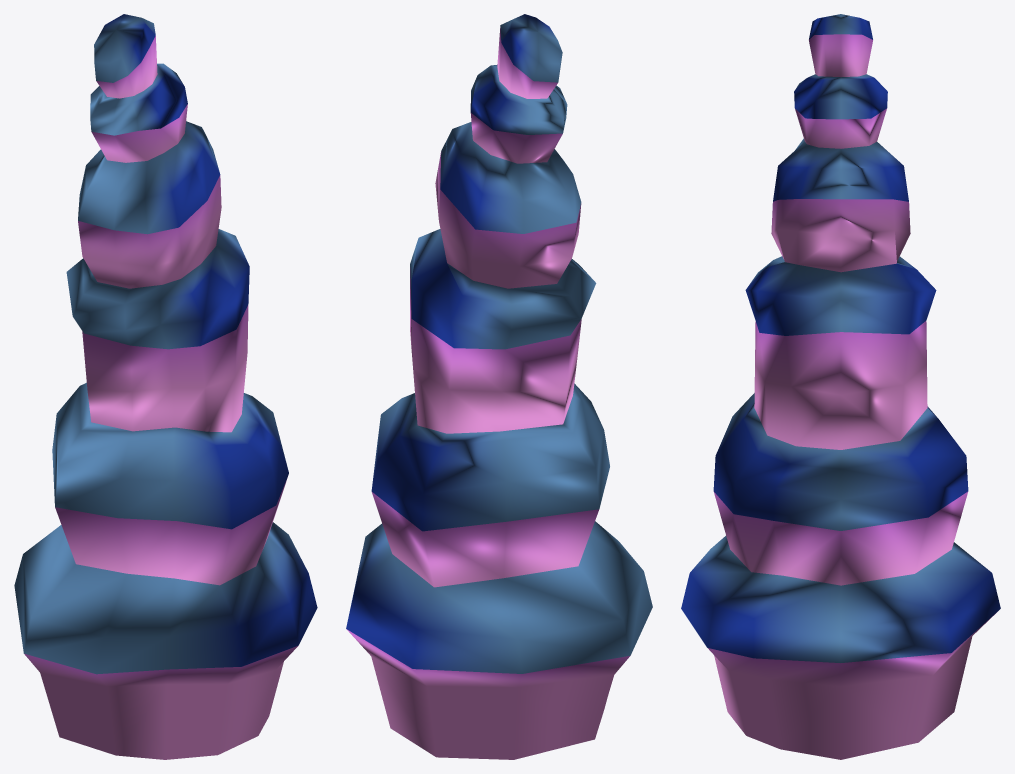
File: RaveCaveTower.glb
3 renders of one model, left to right at view 1: azimuth 30°, elevation 25°; view 2: azimuth 150°, elevation 25°; view 3: azimuth 270°, elevation 25°, orthographic. The views are drawn at different scales.
Parts seen in each view (by area): view 1: RaveCaveTower; view 2: RaveCaveTower; view 3: RaveCaveTower.
Part boxes in pixels (x1=…): RaveCaveTower: x1=14, y1=14, x2=317, y2=759; RaveCaveTower: x1=346, y1=14, x2=652, y2=759; RaveCaveTower: x1=681, y1=14, x2=1000, y2=759.
Size of the model in its own units: 4.26 by 10.56 by 4.48.
